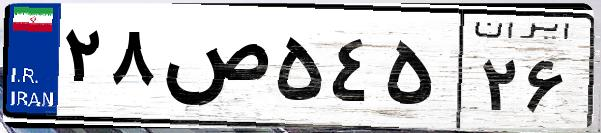2: (57, 26, 110, 100), (475, 38, 525, 113)
4: (330, 28, 385, 110)
5: (270, 28, 330, 110), (385, 28, 445, 110)
6: (525, 38, 570, 115)
8: (110, 28, 158, 98)
ص: (158, 20, 270, 120)
